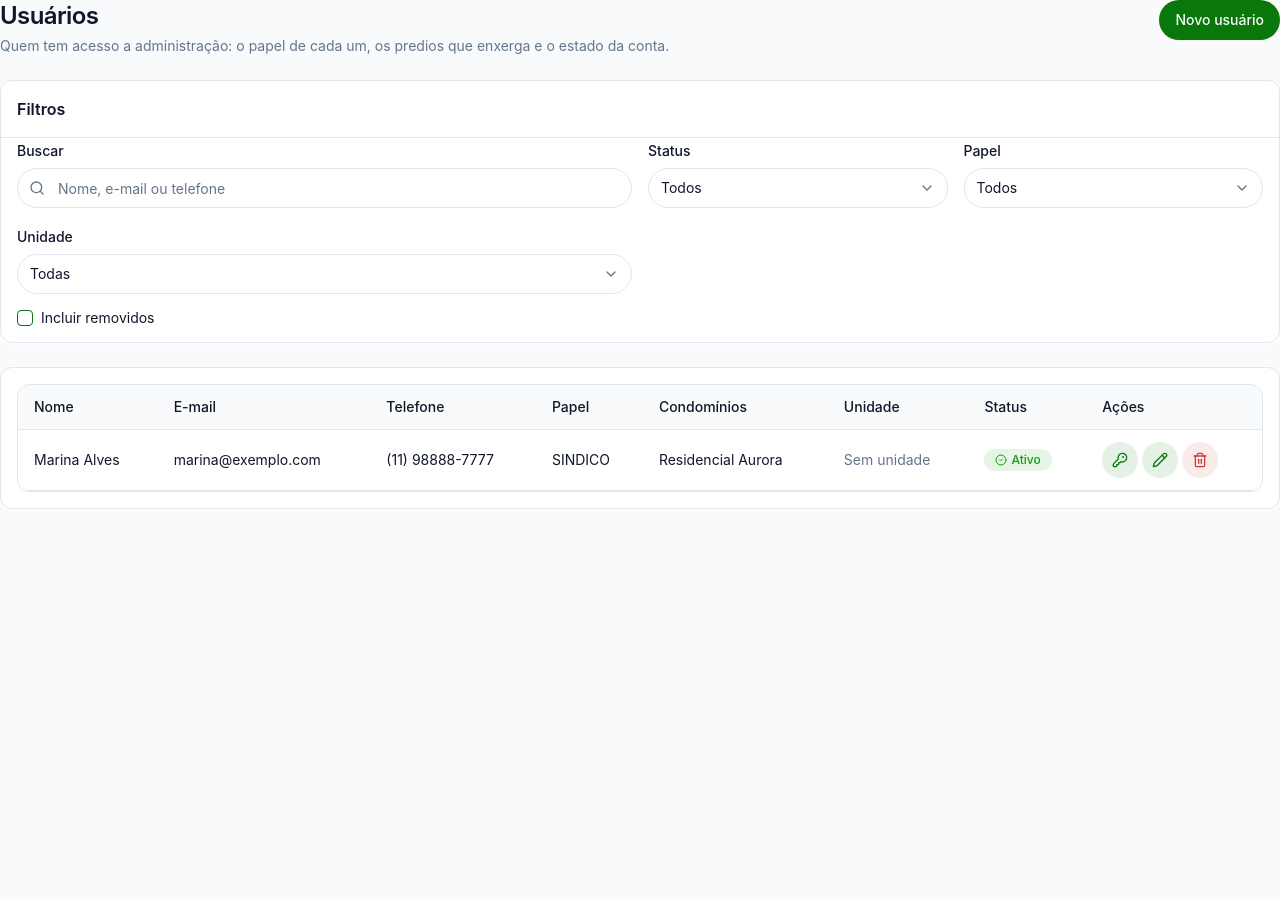
Cadastro de usuário › a tela não oferece nem exibe senha em texto
The width and height of the screenshot is (1280, 900).
Expected: the text "Marina Alves" is shown, [34, 450, 120, 470]
Click the button named "Editar Marina Alves" at (1160, 460), box [1142, 442, 1178, 478]
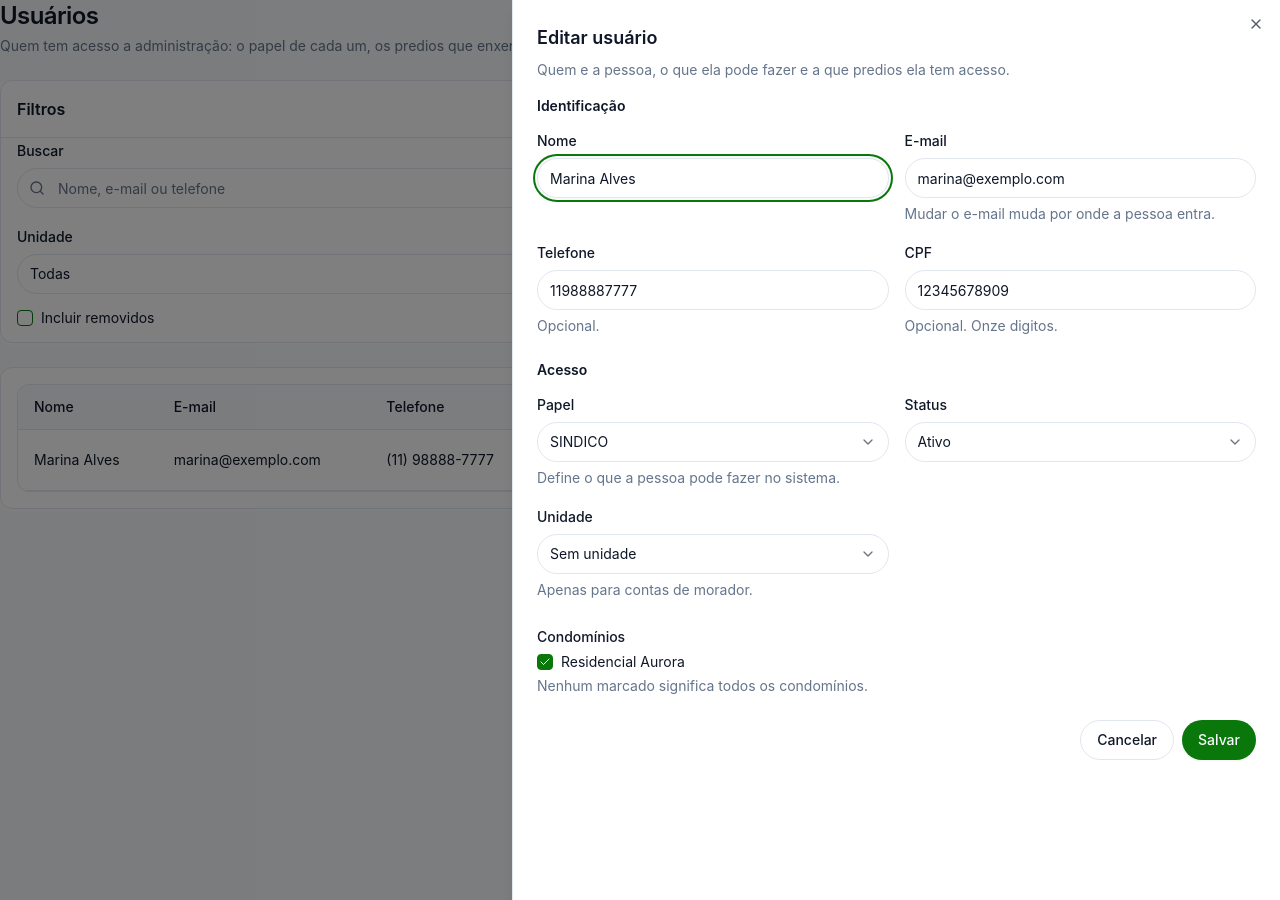
Expected: the field labelled "E-mail" is shown, [904, 158, 1256, 198]
